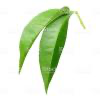Peach leaf: (18, 9, 66, 74), (39, 12, 75, 96)
